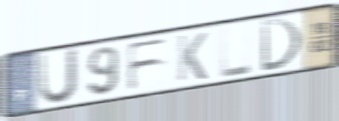9: (85, 44, 120, 99)
D: (258, 17, 304, 74)
F: (125, 35, 171, 94)
K: (175, 30, 209, 84)
L: (218, 24, 254, 80)
U: (36, 46, 82, 107)
